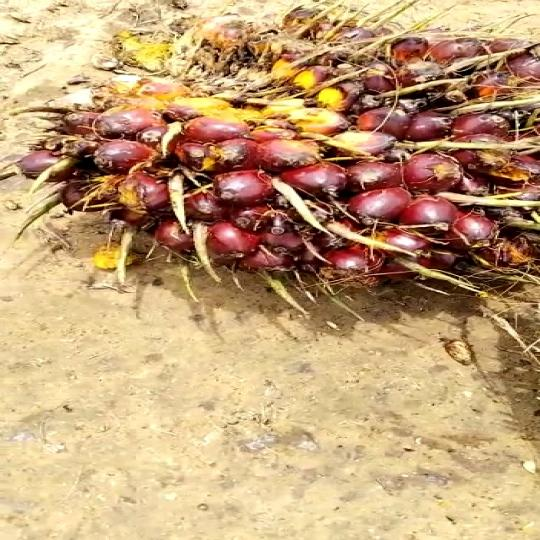masak: (0, 0, 540, 329)
